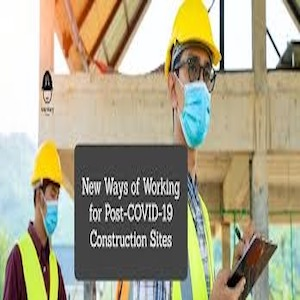safety: (165, 4, 223, 56), (32, 141, 63, 184)
